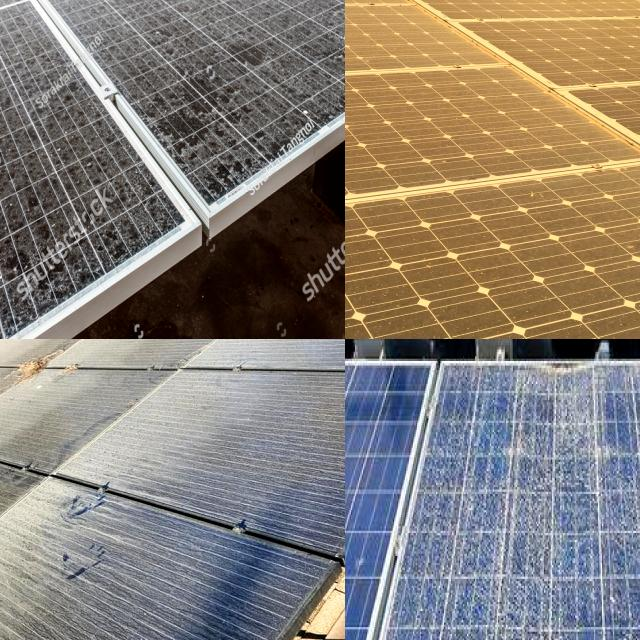dust: (0, 541, 219, 640), (169, 375, 345, 483), (0, 43, 43, 339), (0, 30, 43, 307), (0, 376, 124, 456), (184, 75, 293, 163), (52, 118, 111, 271), (0, 472, 107, 551), (108, 0, 194, 81), (213, 0, 300, 73), (70, 339, 194, 372), (233, 339, 345, 375), (62, 0, 158, 41), (222, 0, 322, 36), (260, 339, 345, 380), (312, 0, 345, 97), (0, 386, 44, 457), (91, 339, 199, 367), (0, 0, 37, 55)
